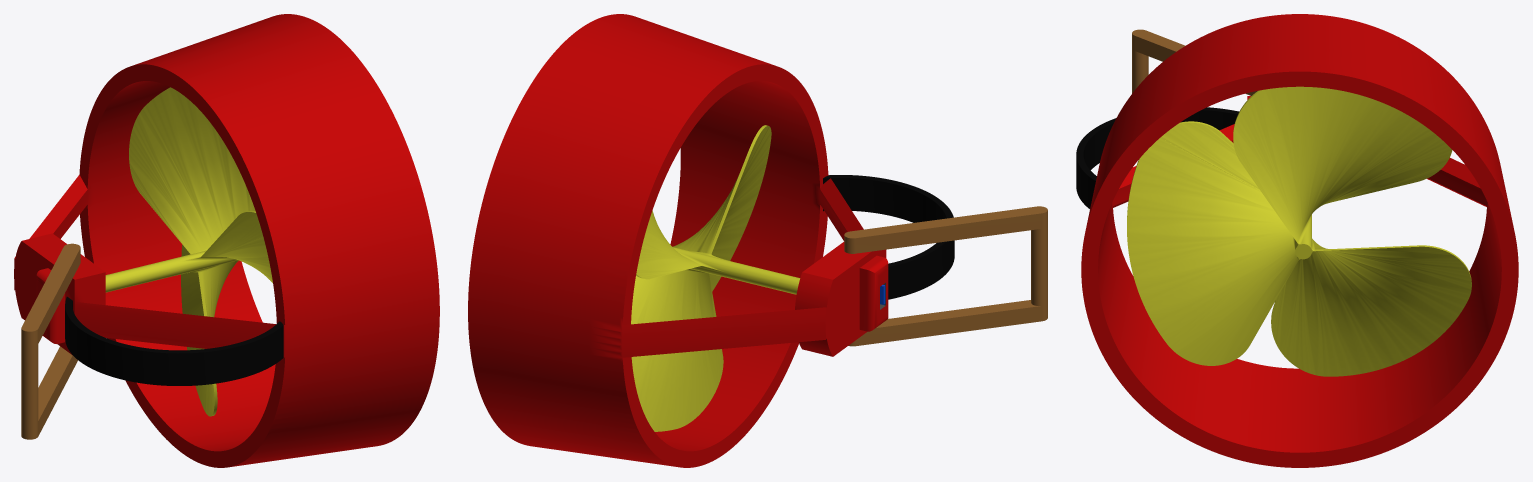
File: portable_wind_turbine.glb
3 renders of one model, left to right at view 1: azimuth 30°, elevation 25°; view 2: azimuth 150°, elevation 25°; view 3: azimuth 270°, elevation 25°, orthographic.
Bounding box in the file's own units: 26.27 × 26 × 26.29.
